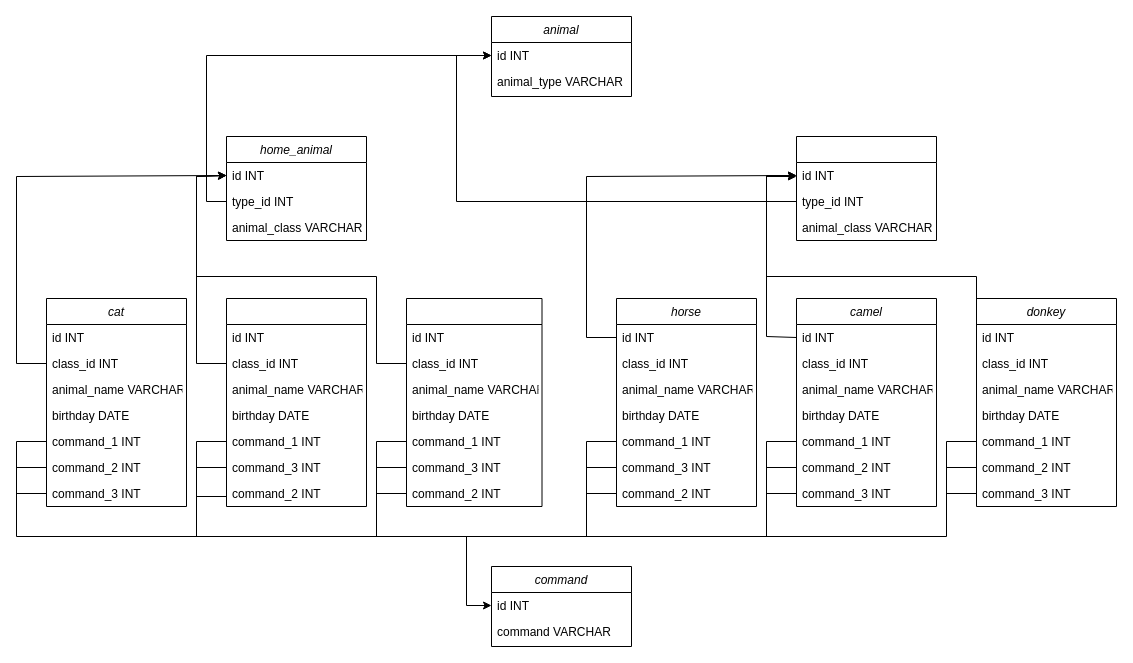
Some shapes in this 1133 by 663 pixel diagram are drawn without their labels. Here are the shapes that lost their labels. From the top down, the box of each, then its label:
(796, 136, 936, 240): pack_animal
(226, 298, 366, 506): dog
(406, 298, 542, 506): hamster
